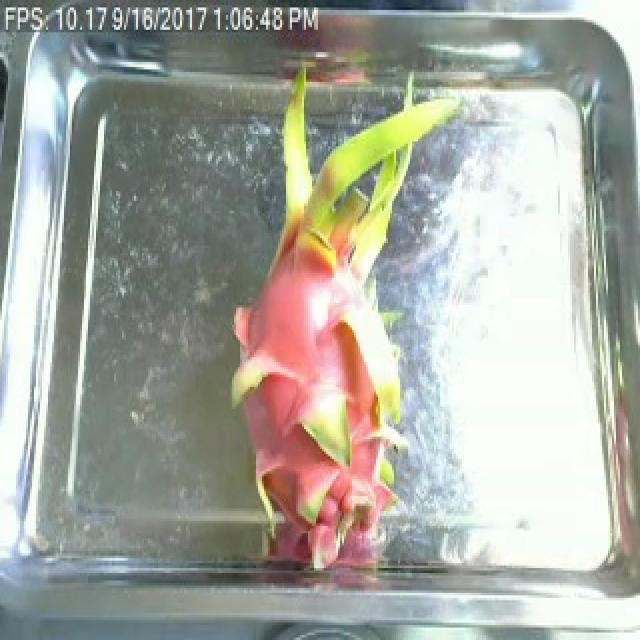fruit: (216, 191, 460, 590)
